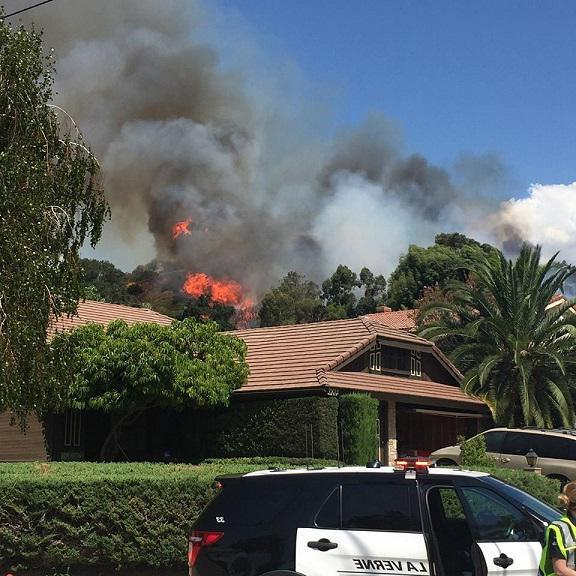Fire: (185, 268, 279, 310), (170, 218, 194, 242)
